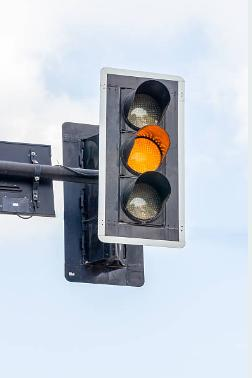yellow_light: (98, 66, 187, 248)
